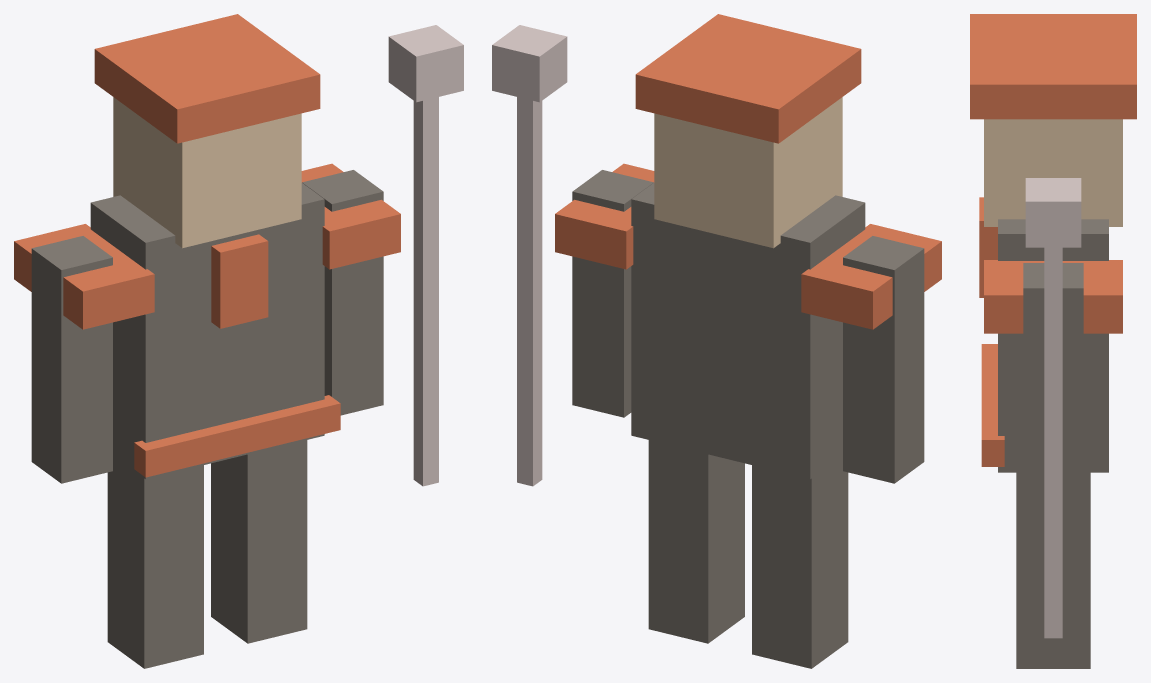
File: 07_dax_ironwake_diver_under_forkkeeper.glb
3 renders of one model, left to right at view 1: azimuth 30°, elevation 25°; view 2: azimuth 150°, elevation 25°; view 3: azimuth 270°, elevation 25°, orthographic.
Parts seen in each view (by area): view 1: Dax Ironwake, Diver under Forkkeeper; view 2: Dax Ironwake, Diver under Forkkeeper; view 3: Dax Ironwake, Diver under Forkkeeper.
Boxes of the visible parts, box(x1,y1,x2,y2) form: Dax Ironwake, Diver under Forkkeeper: box(14, 14, 463, 668); Dax Ironwake, Diver under Forkkeeper: box(492, 14, 941, 668); Dax Ironwake, Diver under Forkkeeper: box(970, 14, 1136, 668).
Size of the model in its own units: 1.11 by 1.51 by 0.394.
